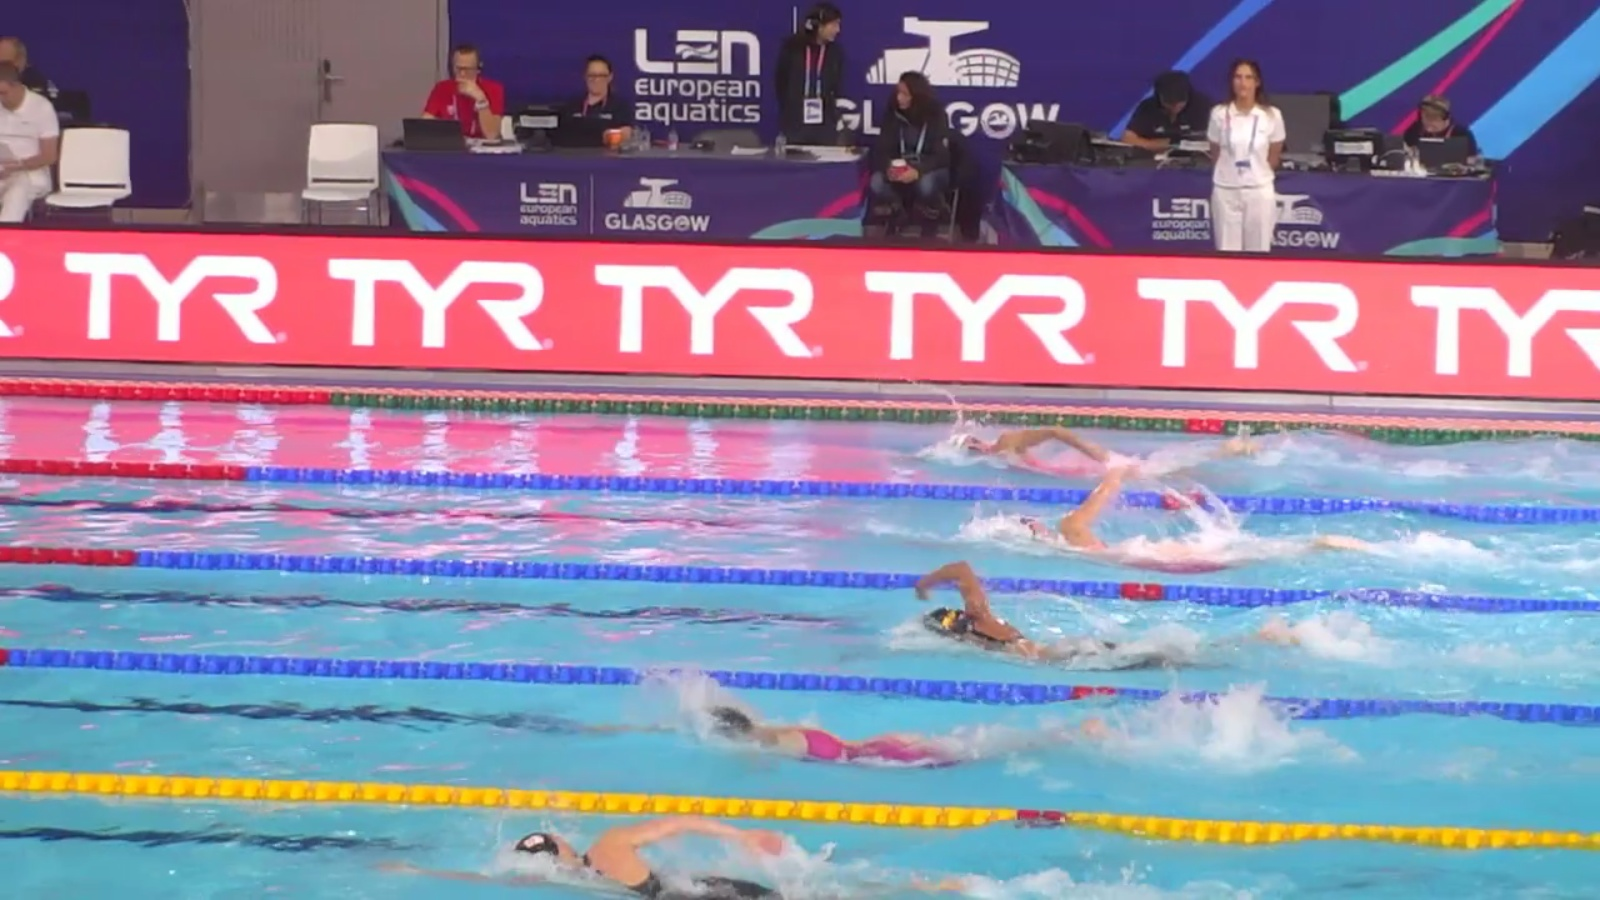swimmerw: (373, 815, 980, 900), (915, 557, 1305, 667), (1013, 471, 1370, 564), (586, 712, 1130, 769), (942, 416, 1279, 484)
